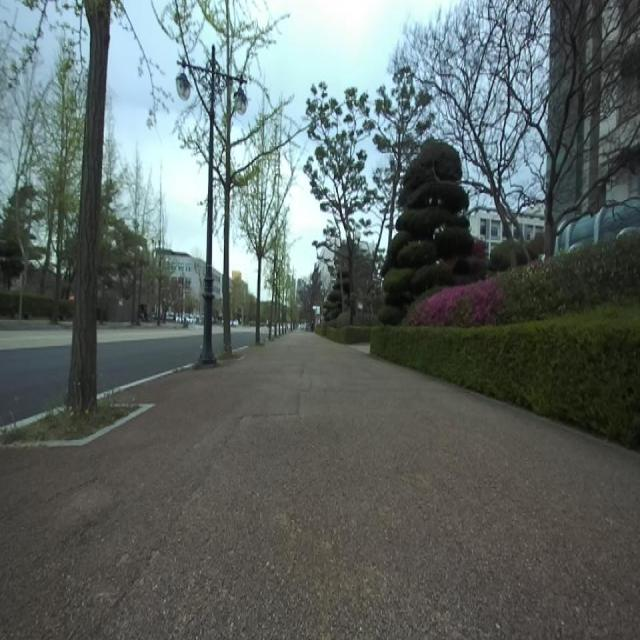sidewalk: (0, 331, 640, 639), (96, 363, 192, 399), (1, 406, 65, 432)
